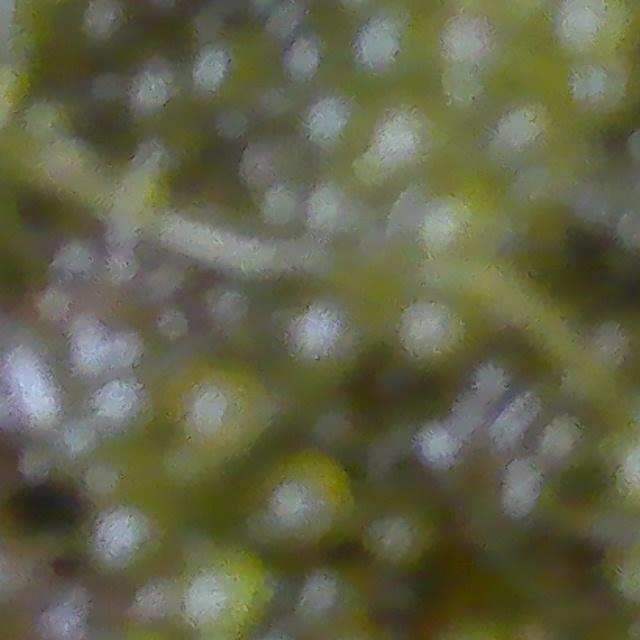SeaGrape: (493, 95, 590, 209), (168, 361, 269, 456), (172, 550, 277, 640), (415, 185, 514, 280), (83, 500, 173, 588), (263, 452, 349, 542), (559, 0, 633, 75), (398, 296, 470, 368)
